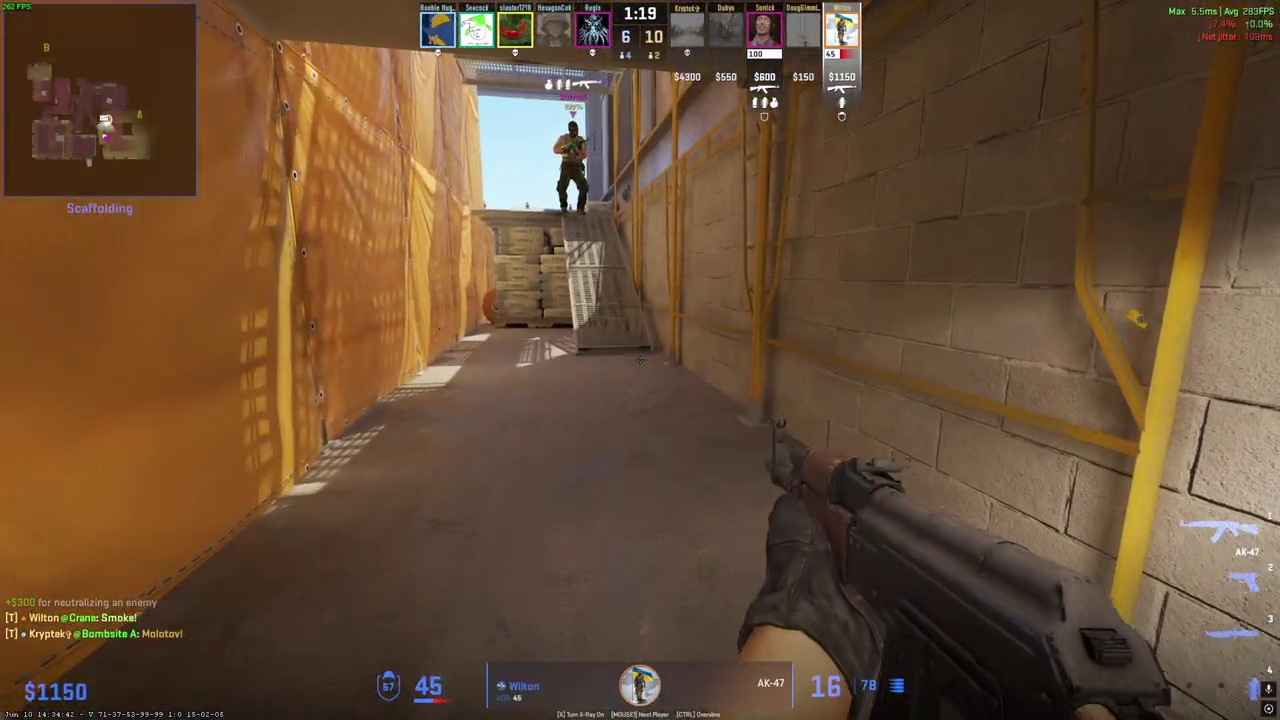Terrorist: (554, 120, 591, 215)
